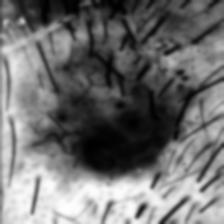Potentially Malignant Skin Tumors: (64, 38, 174, 184)
